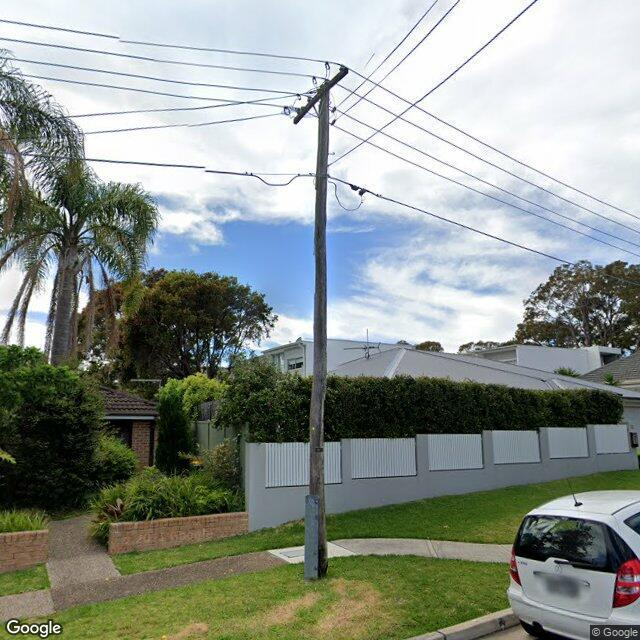crossarm: (293, 64, 349, 126)
timber-pole: (302, 77, 330, 582)
